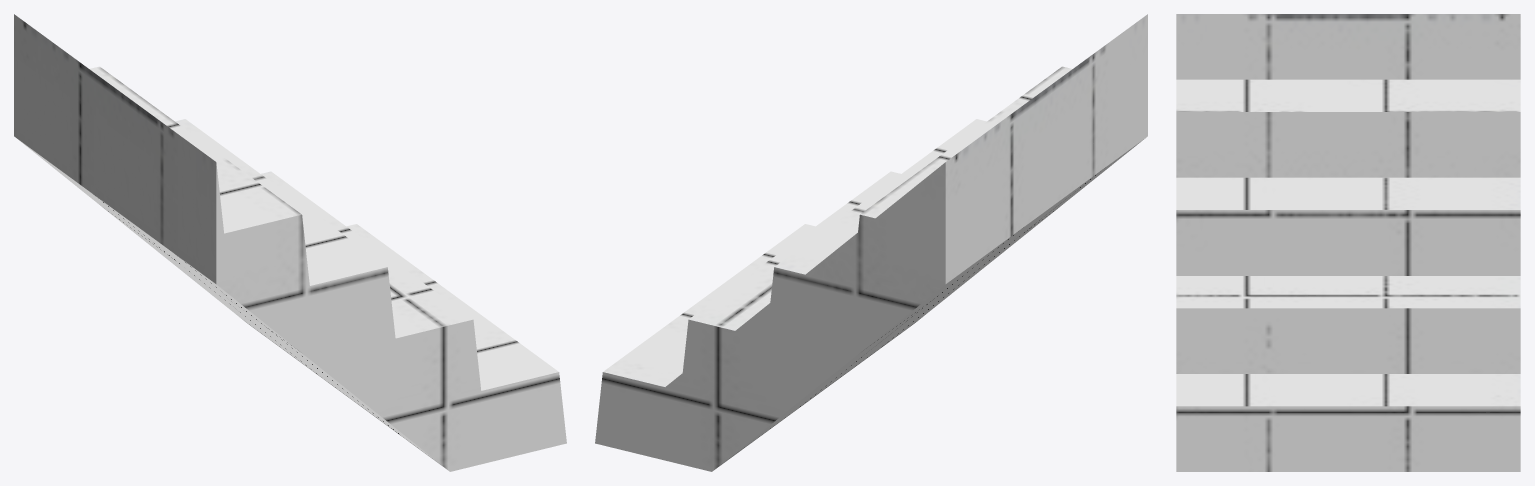
The model's file is stairs1.fbx.
3 views of the same model, side by side, from view 1: azimuth 30°, elevation 25°; view 2: azimuth 150°, elevation 25°; view 3: azimuth 270°, elevation 25° (orthographic). The views are drawn at different scales.
Parts seen in each view (by area): view 1: Stairs1; view 2: Stairs1; view 3: Stairs1.
Boxes of the visible parts, <box> form: Stairs1: <box>14,14,566,471</box>; Stairs1: <box>595,14,1147,471</box>; Stairs1: <box>1176,14,1520,471</box>.
Bounding box in the file's own units: 150 × 150 × 150.
Materials: 1 (1 with a texture image).
